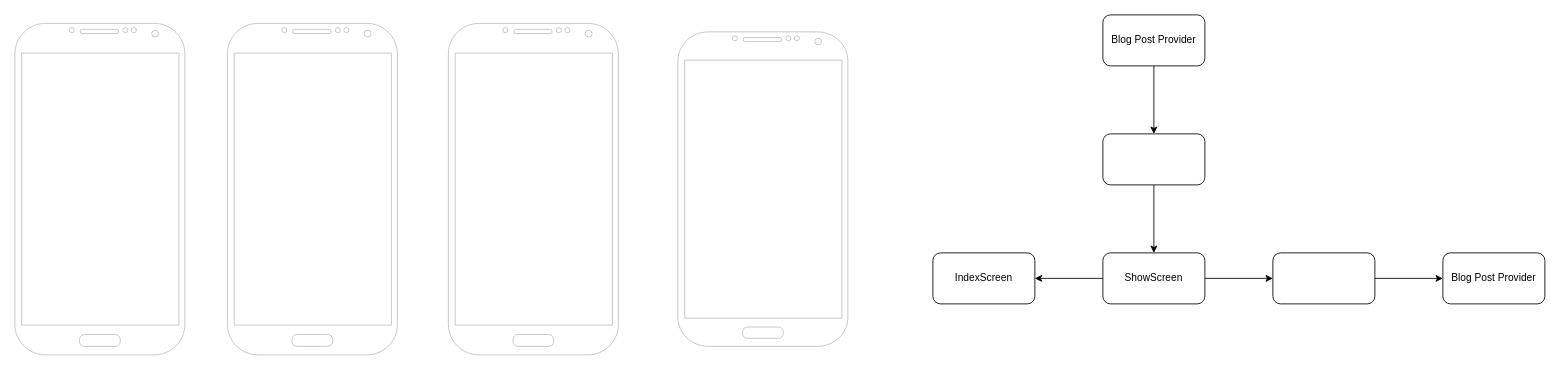
Image size: 1560x370. Some labels were removed from this diagram. Here are the shapes that lost their labels. From the top down, the centre of each, then its label:
At (1153,159): "React Navigation Stack Navigator".
At (1323,278): "CreateScreen".
